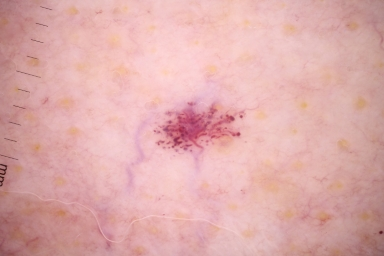nevus: (158, 101, 245, 151)
